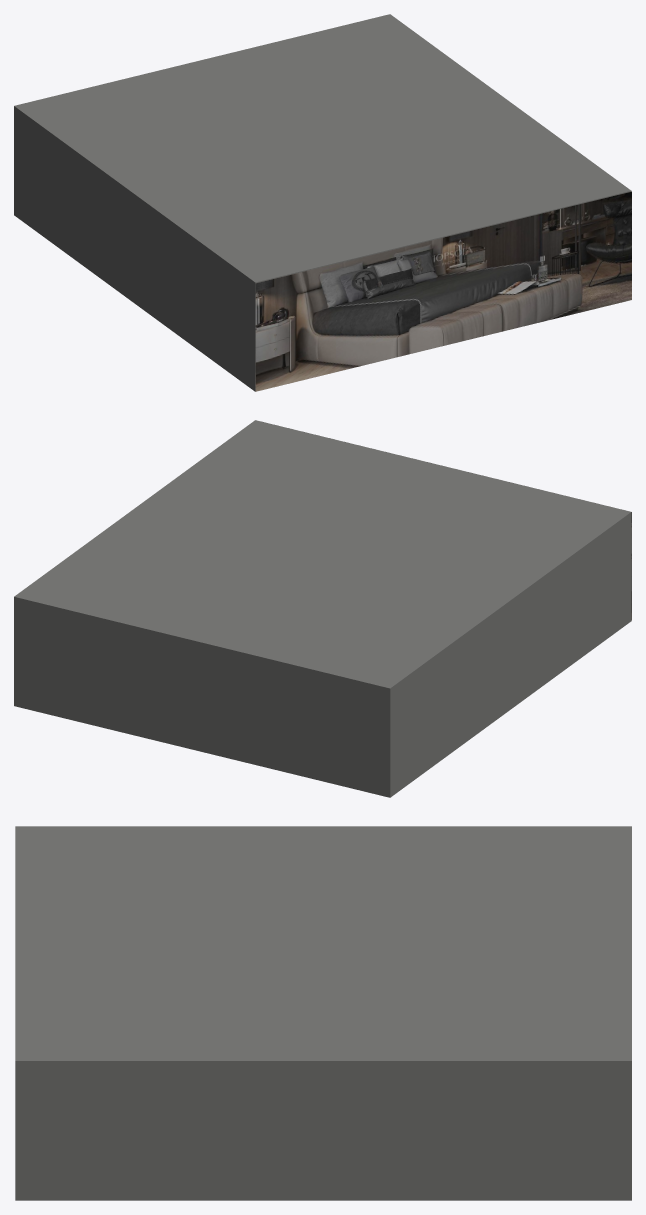
The model's file is mocan-70.glb.
3 renders of one model, top to bottom at view 1: azimuth 30°, elevation 25°; view 2: azimuth 150°, elevation 25°; view 3: azimuth 270°, elevation 25°, orthographic. The views are drawn at different scales.
Parts seen in each view (by area): view 1: furniture; view 2: furniture; view 3: furniture.
Boxes of the visible parts, x1,y1,x2,y2 form: furniture: [14, 14, 631, 391]; furniture: [14, 420, 631, 797]; furniture: [15, 826, 631, 1200].
Size of the model in its own units: 1.8 by 0.5 by 2.
Materials: 2 (1 with a texture image).
